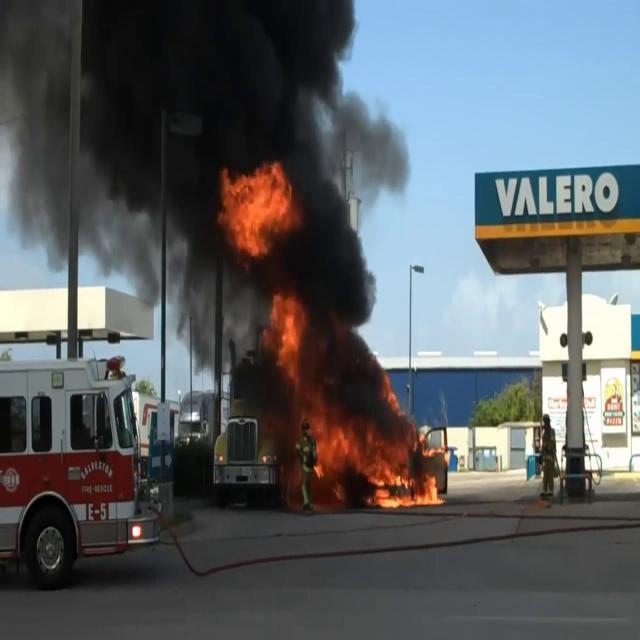Fire: (305, 406, 443, 510), (220, 152, 298, 262)
Smoke: (0, 1, 408, 343)
